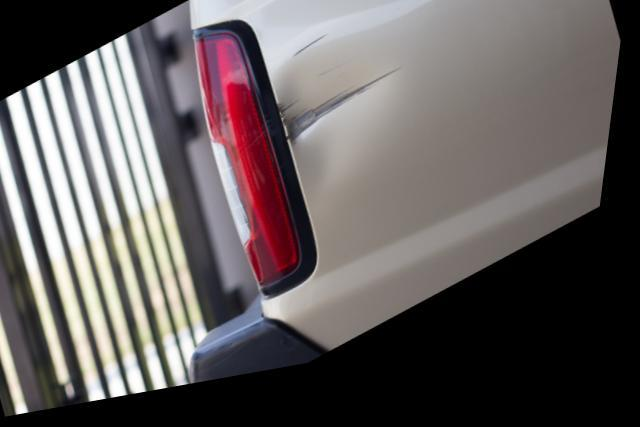dent: (276, 63, 399, 207)
